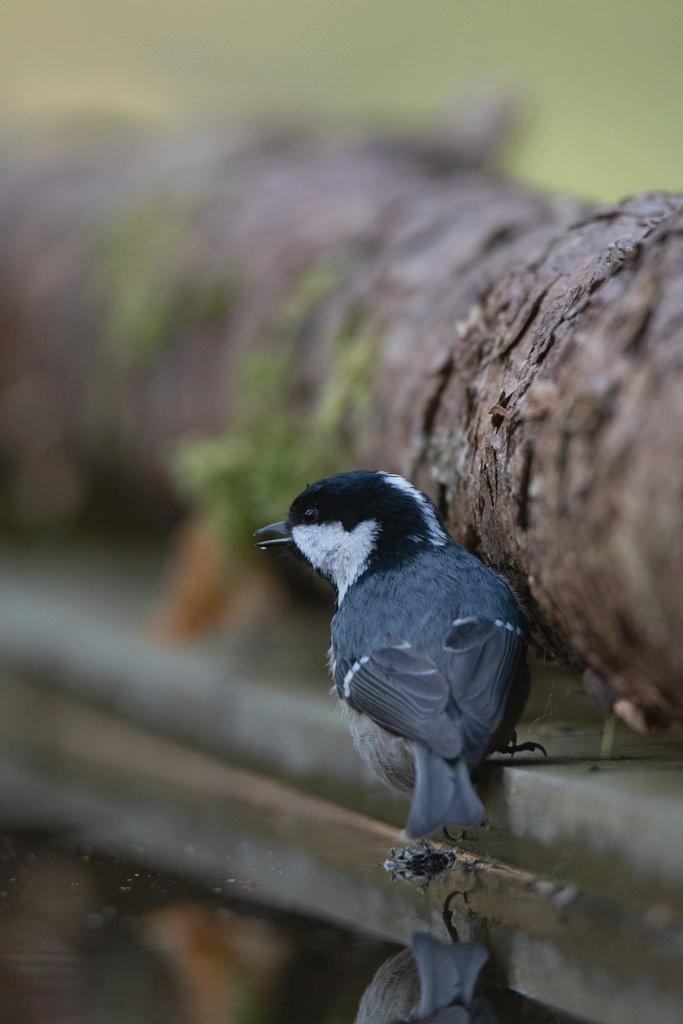PeriparusAter: (253, 469, 529, 839), (353, 930, 499, 1024)
